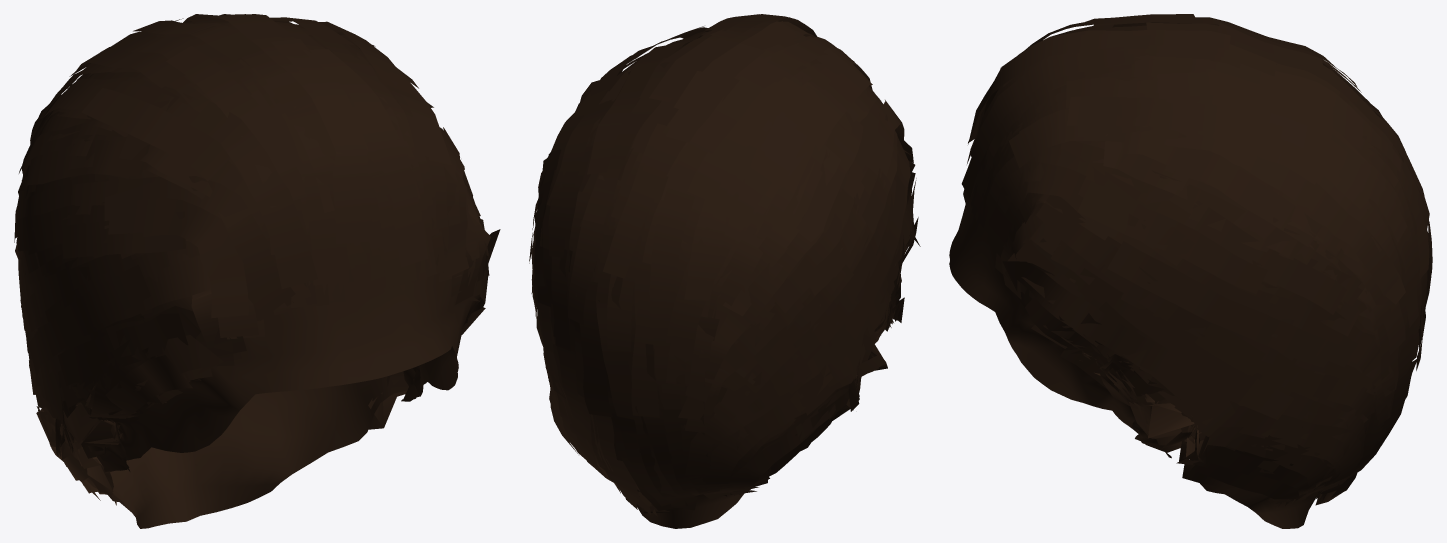
File: hair_quiff.glb
The picture shows the model from 3 angles, left to right: view 1: azimuth 30°, elevation 25°; view 2: azimuth 150°, elevation 25°; view 3: azimuth 270°, elevation 25°; orthographic projection. The views are drawn at different scales.
Parts seen in each view (by area): view 1: hair_quiff; view 2: hair_quiff; view 3: hair_quiff.
Part boxes in pixels (x1=…): hair_quiff: x1=14, y1=14, x2=500, y2=528; hair_quiff: x1=529, y1=14, x2=920, y2=528; hair_quiff: x1=949, y1=14, x2=1432, y2=528.
Bounding box in the file's own units: 0.2 × 0.2702 × 0.2437.
